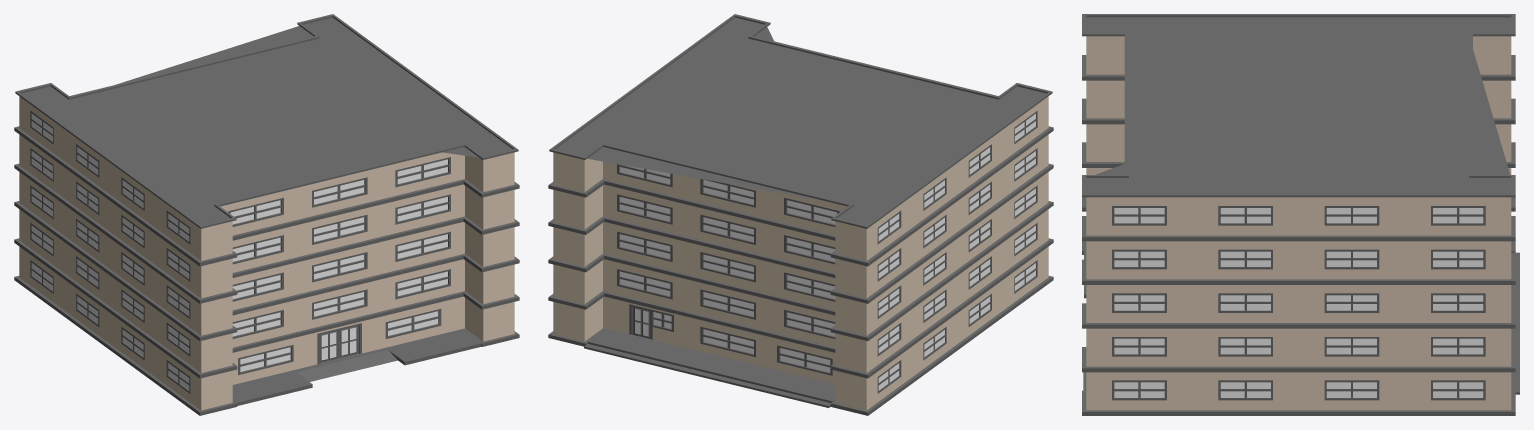
The model's file is Business Building.fbx.
The picture shows the model from 3 angles, left to right: view 1: azimuth 30°, elevation 25°; view 2: azimuth 150°, elevation 25°; view 3: azimuth 270°, elevation 25°; orthographic projection. The views are drawn at different scales.
Parts seen in each view (by area): view 1: building_001; view 2: building_001; view 3: building_001.
Part boxes in pixels (left/top/right/bottom): building_001: left=14, top=14, right=519, bottom=415; building_001: left=548, top=14, right=1053, bottom=415; building_001: left=1082, top=14, right=1519, bottom=415.
Bounding box in the file's own units: 1970 × 1110 × 1999.
